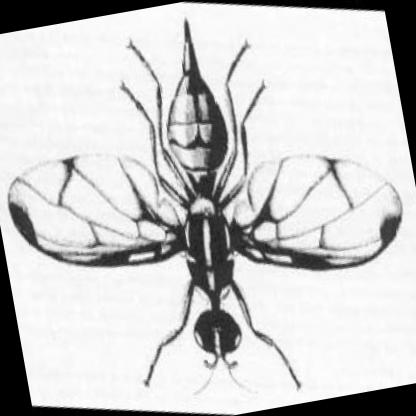fruit fly: (7, 19, 402, 388)
